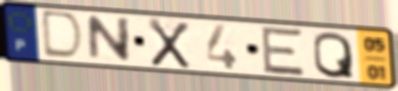4: (204, 22, 239, 73)
D: (41, 9, 87, 62)
E: (260, 25, 307, 78)
N: (86, 15, 133, 64)
Q: (311, 30, 357, 80)
X: (146, 16, 192, 71)
